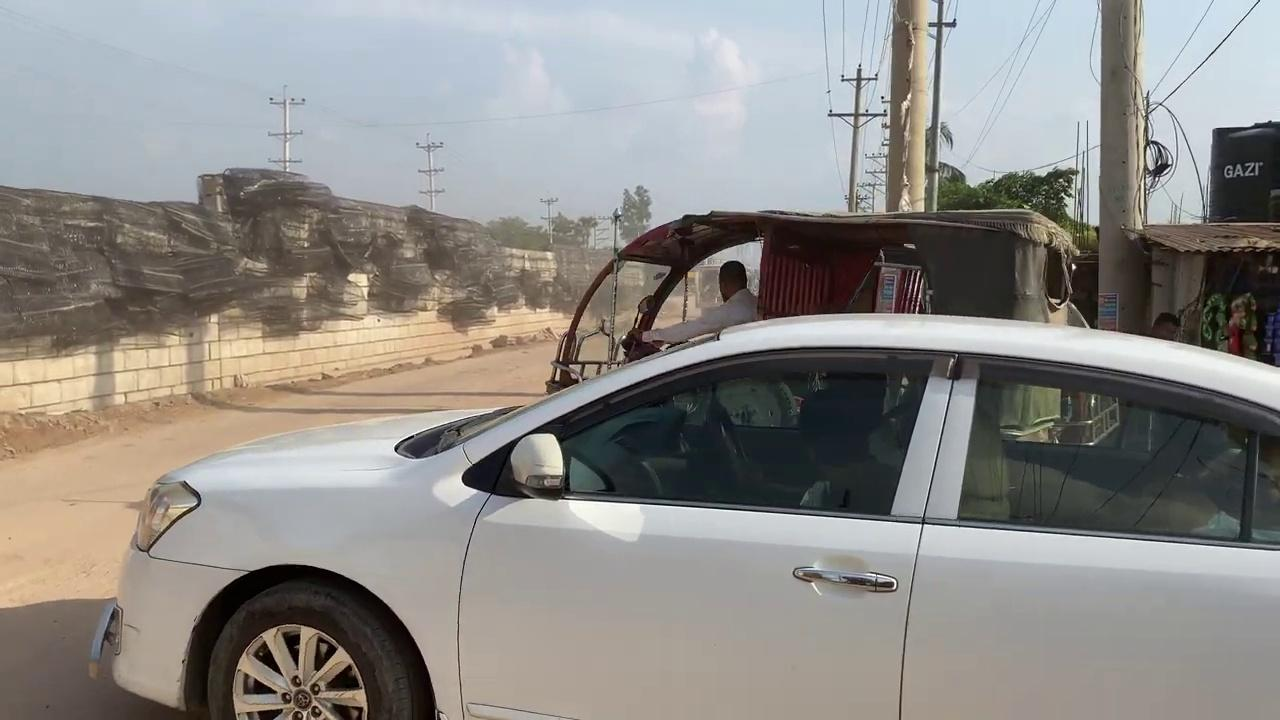Car: (88, 318, 1278, 717)
Garbage: (0, 165, 573, 348)
Pole: (1094, 0, 1149, 335), (884, 0, 929, 212), (827, 63, 884, 212), (924, 0, 955, 211)
Tree: (544, 206, 1085, 414)
